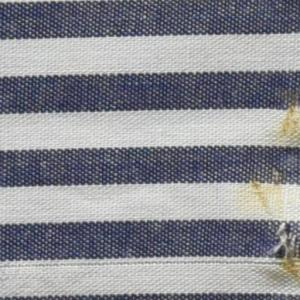Damage: (266, 216, 300, 278)
Oil Stain: (240, 85, 300, 289)
